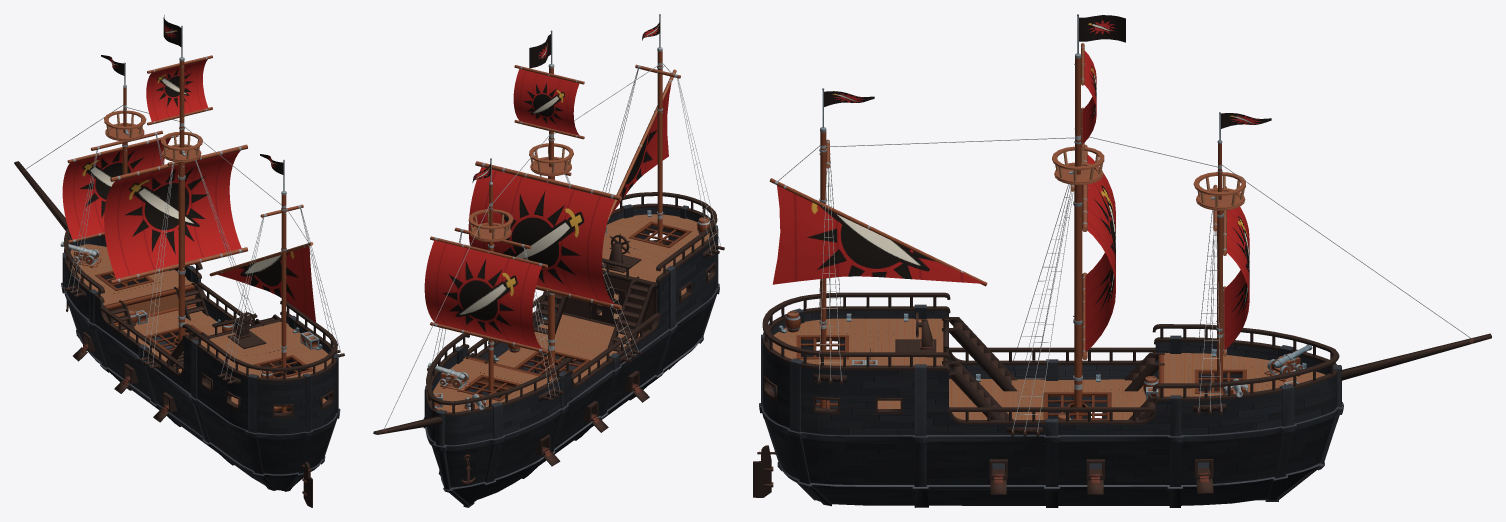
Rendered from corsair-brig.glb.
3 views of the same model, side by side, from view 1: azimuth 30°, elevation 25°; view 2: azimuth 150°, elevation 25°; view 3: azimuth 270°, elevation 25° (orthographic). The views are drawn at different scales.
Parts seen in each view (by area): view 1: StylShip_SailBack_Mat_StylShip_SailsRope_0, StylShip_Body_Mat_StylShip_ShipHull_0, StylShip_Anchor_Mat_StylShip_Elements_0, StylShip_FloorBackBottom_Mat_StylShip_Decks_0, StylShip_MastBack_Mat_StylShip_Masts_0, StylShip_Ropes_Mat_StylShip_SailsRope_0, StylShip_Cannon1_Mat_StylShip_Props_0, StylShip_MainFlag_Mat_StylShip_SailsRope_0; view 2: StylShip_SailBack_Mat_StylShip_SailsRope_0, StylShip_Body_Mat_StylShip_ShipHull_0, StylShip_Anchor_Mat_StylShip_Elements_0, StylShip_FloorBackBottom_Mat_StylShip_Decks_0, StylShip_MastBack_Mat_StylShip_Masts_0, StylShip_Ropes_Mat_StylShip_SailsRope_0, StylShip_Cannon1_Mat_StylShip_Props_0, StylShip_MainFlag_Mat_StylShip_SailsRope_0; view 3: StylShip_Body_Mat_StylShip_ShipHull_0, StylShip_Anchor_Mat_StylShip_Elements_0, StylShip_SailBack_Mat_StylShip_SailsRope_0, StylShip_FloorBackBottom_Mat_StylShip_Decks_0, StylShip_MastBack_Mat_StylShip_Masts_0, StylShip_Ropes_Mat_StylShip_SailsRope_0, StylShip_MainFlag_Mat_StylShip_SailsRope_0, StylShip_Cannon1_Mat_StylShip_Props_0.
Part boxes in pixels (<box>): StylShip_SailBack_Mat_StylShip_SailsRope_0: <box>62,59,315,322</box>; StylShip_Body_Mat_StylShip_ShipHull_0: <box>61,236,340,491</box>; StylShip_Anchor_Mat_StylShip_Elements_0: <box>14,161,344,507</box>; StylShip_FloorBackBottom_Mat_StylShip_Decks_0: <box>70,244,331,412</box>; StylShip_MastBack_Mat_StylShip_Masts_0: <box>67,25,313,412</box>; StylShip_Ropes_Mat_StylShip_SailsRope_0: <box>24,105,341,380</box>; StylShip_Cannon1_Mat_StylShip_Props_0: <box>60,241,319,378</box>; StylShip_MainFlag_Mat_StylShip_SailsRope_0: <box>101,15,283,174</box>; StylShip_SailBack_Mat_StylShip_SailsRope_0: <box>424,69,671,349</box>; StylShip_Body_Mat_StylShip_ShipHull_0: <box>423,204,719,507</box>; StylShip_Anchor_Mat_StylShip_Elements_0: <box>373,192,724,484</box>; StylShip_FloorBackBottom_Mat_StylShip_Decks_0: <box>433,210,709,412</box>; StylShip_MastBack_Mat_StylShip_Masts_0: <box>430,14,680,394</box>; StylShip_Ropes_Mat_StylShip_SailsRope_0: <box>383,63,720,430</box>; StylShip_Cannon1_Mat_StylShip_Props_0: <box>427,217,709,410</box>; StylShip_MainFlag_Mat_StylShip_SailsRope_0: <box>472,21,659,182</box>; StylShip_Body_Mat_StylShip_ShipHull_0: <box>759,304,1343,507</box>; StylShip_Anchor_Mat_StylShip_Elements_0: <box>753,292,1491,497</box>; StylShip_SailBack_Mat_StylShip_SailsRope_0: <box>772,51,1249,352</box>; StylShip_FloorBackBottom_Mat_StylShip_Decks_0: <box>772,313,1325,419</box>; StylShip_MastBack_Mat_StylShip_Masts_0: <box>769,14,1245,419</box>; StylShip_Ropes_Mat_StylShip_SailsRope_0: <box>777,136,1472,431</box>; StylShip_MainFlag_Mat_StylShip_SailsRope_0: <box>824,15,1271,128</box>; StylShip_Cannon1_Mat_StylShip_Props_0: <box>785,311,1312,419</box>.
Size of the model in its own units: 7.42 by 20.35 by 28.
8 materials, 8 textured.
